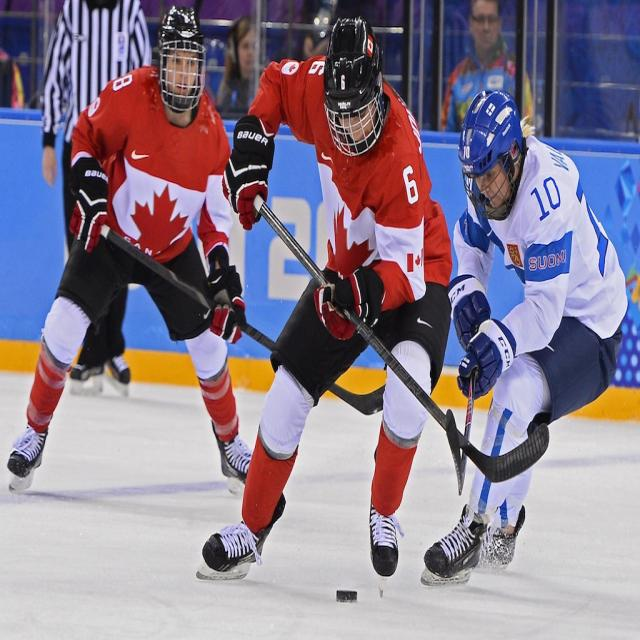body: (193, 13, 458, 590), (5, 2, 256, 496), (422, 75, 634, 592), (32, 0, 166, 405), (437, 0, 547, 135), (213, 9, 278, 100), (0, 30, 39, 112), (282, 3, 334, 59)
